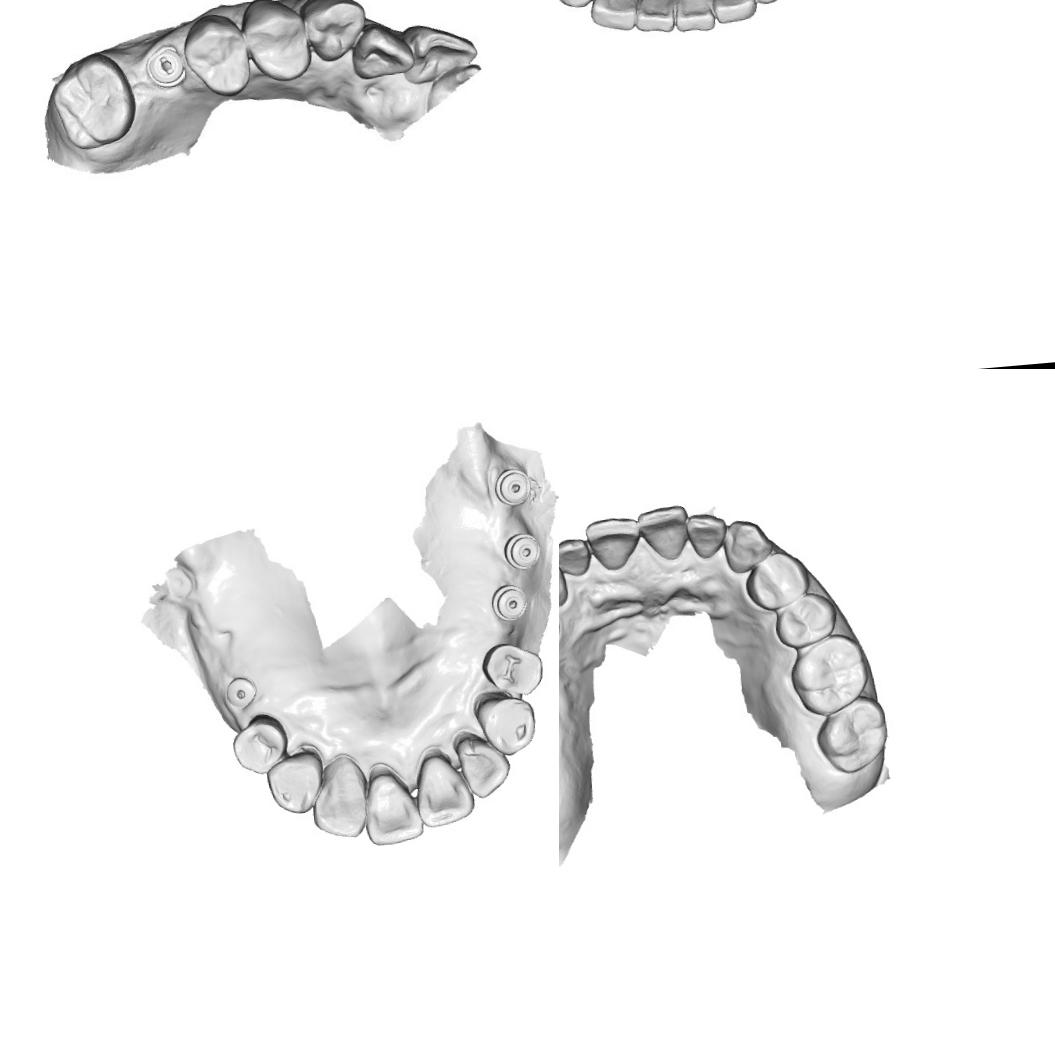canine: (470, 688, 538, 760), (301, 0, 369, 64), (262, 749, 326, 816), (720, 516, 776, 574)
implant: (500, 529, 544, 572), (491, 465, 534, 507), (488, 582, 530, 623), (222, 672, 258, 710)
implant_minus: (141, 42, 190, 92)
incisor: (306, 752, 371, 842), (359, 760, 424, 847), (400, 18, 481, 86), (412, 747, 476, 828), (348, 18, 418, 82), (454, 729, 512, 800), (582, 514, 643, 573), (636, 501, 692, 562), (684, 510, 729, 560), (559, 534, 593, 578), (592, 0, 644, 26), (636, 0, 678, 32), (673, 0, 717, 29), (705, 0, 759, 21)
molar: (47, 47, 140, 154), (787, 632, 871, 718), (811, 693, 892, 776)
premolar: (179, 9, 254, 100), (237, 0, 314, 85), (742, 548, 812, 613), (229, 710, 290, 777), (770, 590, 839, 649), (480, 638, 545, 698)
